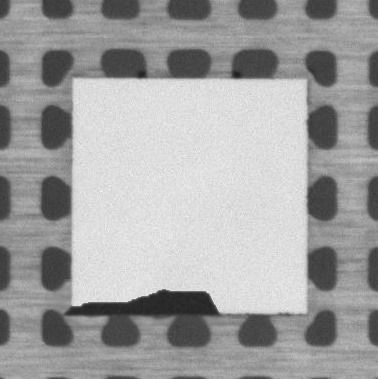DIE_BROKEN: (67, 288, 223, 315)
